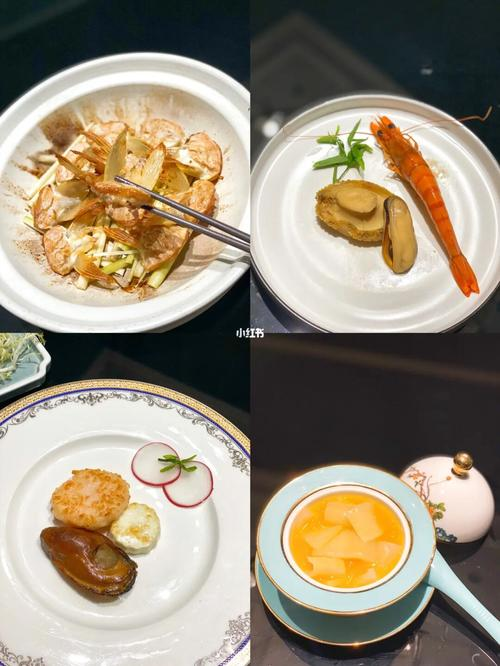food: (2, 46, 245, 320), (245, 88, 493, 330), (6, 386, 225, 641), (260, 444, 430, 633), (18, 450, 161, 584)
